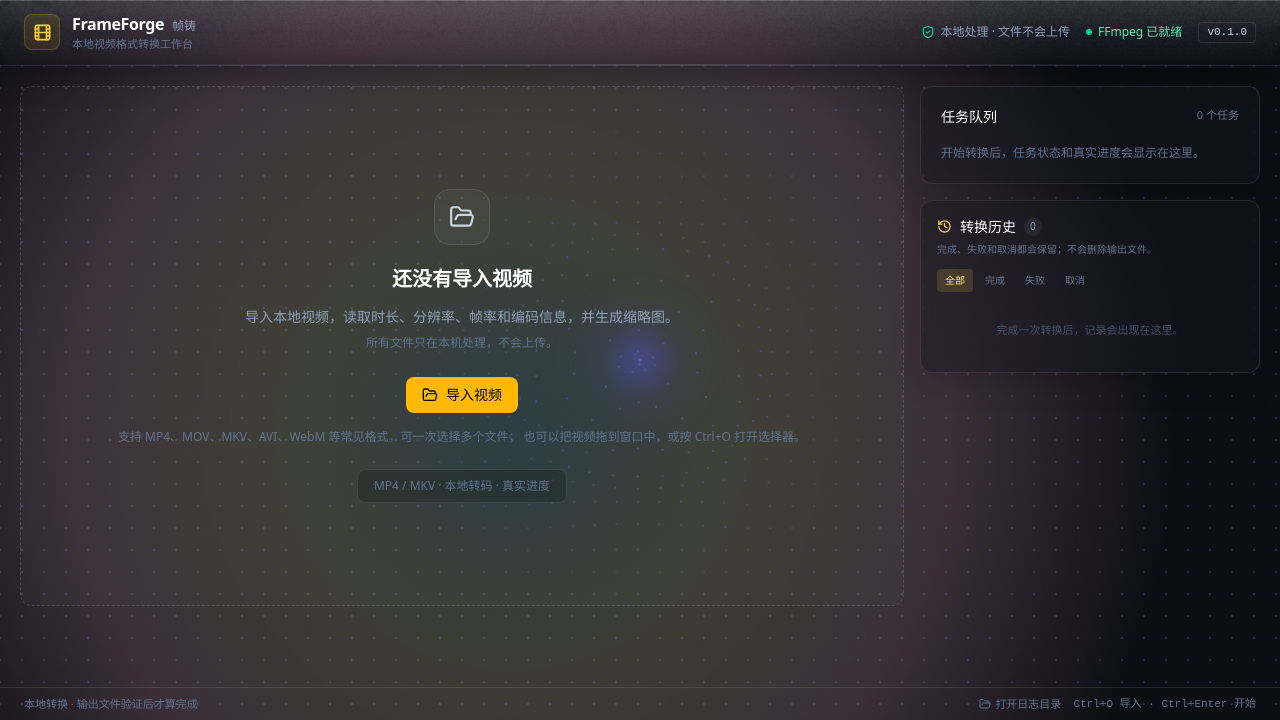
阶段 3 / 转换 UI › 导入后默认输出到源文件目录，手动选择后使用手动目录
Expected: the text "FFmpeg 已就绪" is shown, [1086,24,1182,40]
Click the button "导入视频" at (462, 394), box [406,376,518,412]
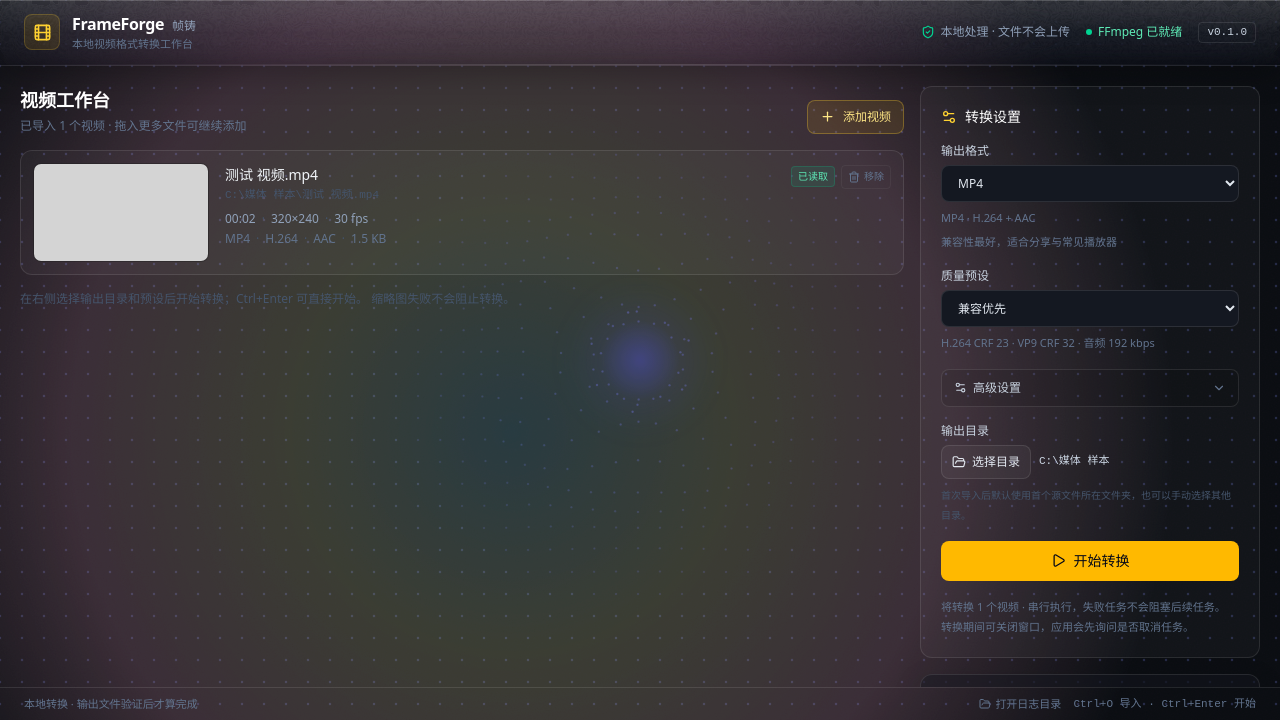
Result: the heading "测试 视频.mp4" is shown at [225,164,318,184]
Result: the heading "转换设置" is shown at [965,106,1021,126]
Result: the dropdown labelled "输出格式" shows "MP4" at [941,164,1239,202]
Click the button "选择目录" at (986, 462), box [941,444,1031,478]
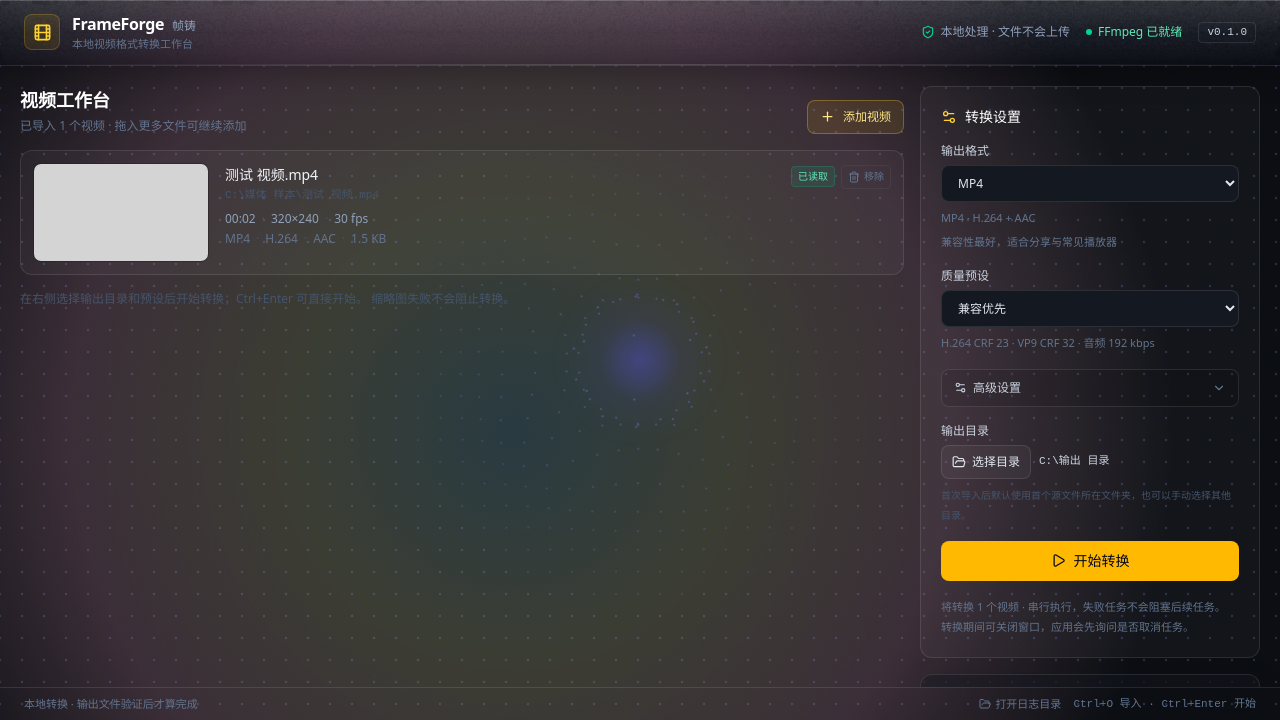
Result: the button "开始转换" is enabled at [941,540,1239,580]
Result: the text "C:\\输出 目录" is shown at [1039,455,1109,467]
